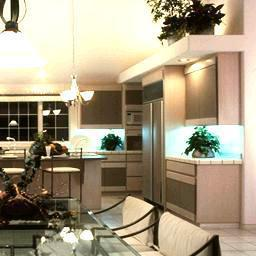Electrodomestico: (140, 105, 164, 203)
